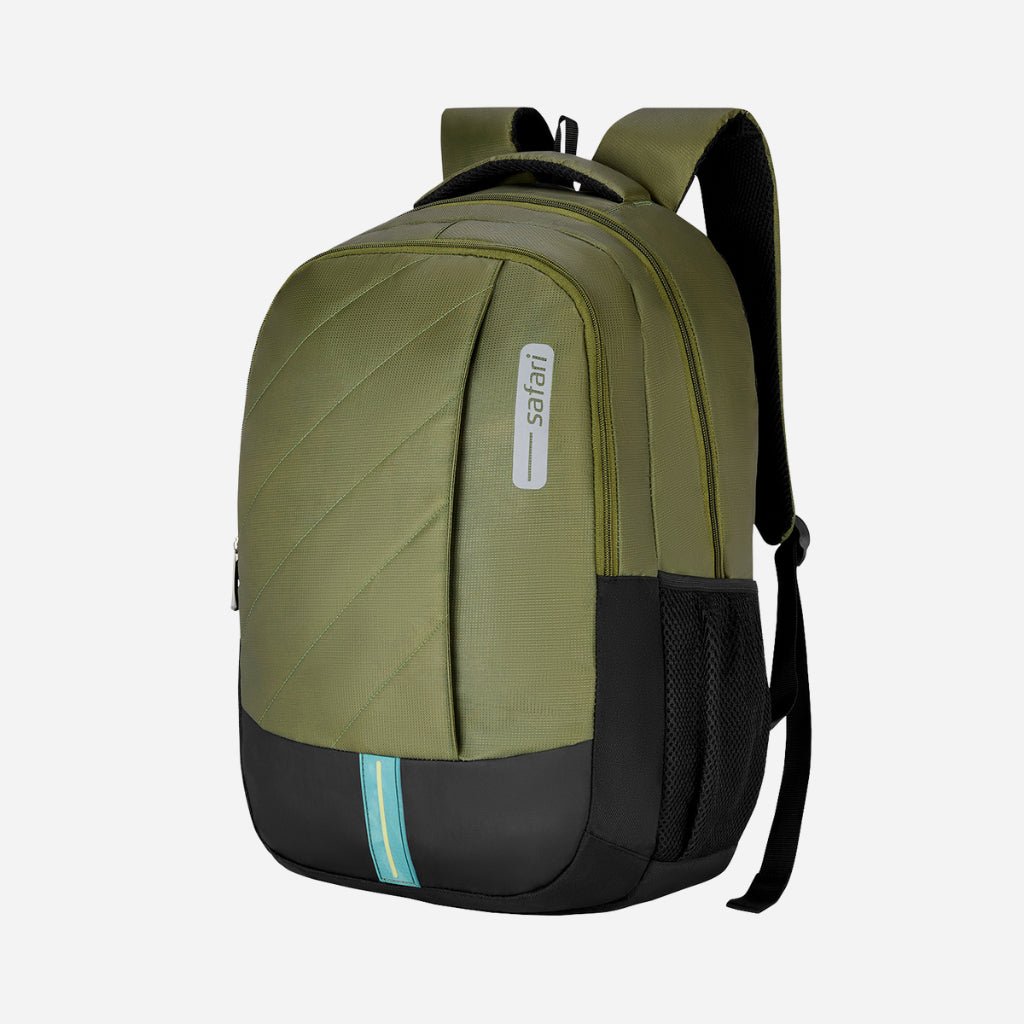backpack: (231, 104, 813, 917)
